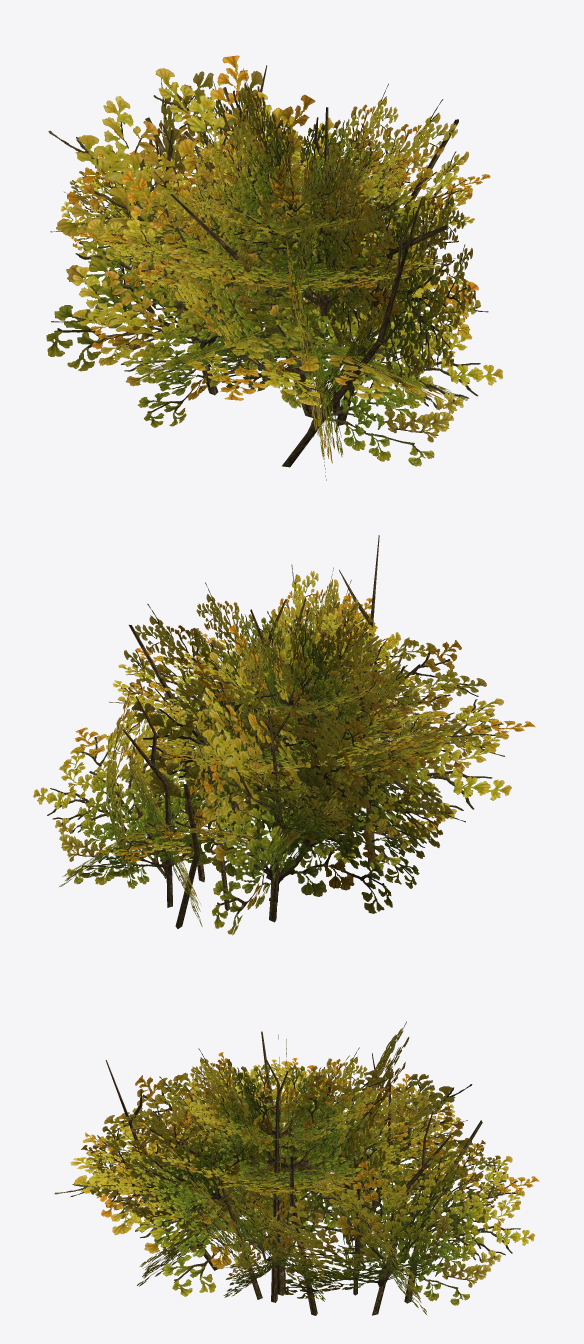
File: huangguanmu_dw_40.FBX
3 views of the same model, one above another, from view 1: azimuth 30°, elevation 25°; view 2: azimuth 150°, elevation 25°; view 3: azimuth 270°, elevation 25° (orthographic). The views are drawn at different scales.
Visible parts, largest first — view 1: huangguanmu_dw_40; view 2: huangguanmu_dw_40; view 3: huangguanmu_dw_40.
Boxes of the visible parts, box(x1,y1,x2,y2) form: huangguanmu_dw_40: box(46, 55, 502, 480); huangguanmu_dw_40: box(33, 535, 535, 935); huangguanmu_dw_40: box(54, 1021, 539, 1315).
Bounding box in the file's own units: 536 × 366 × 708.
